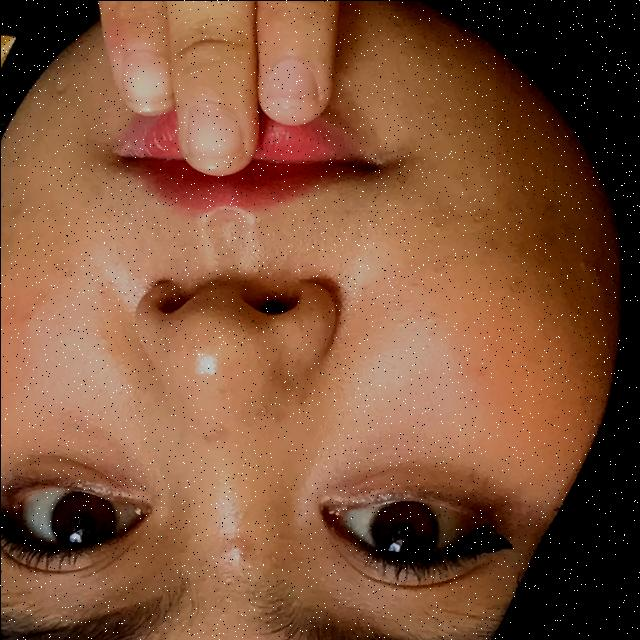ganteng: (0, 0, 495, 209)
